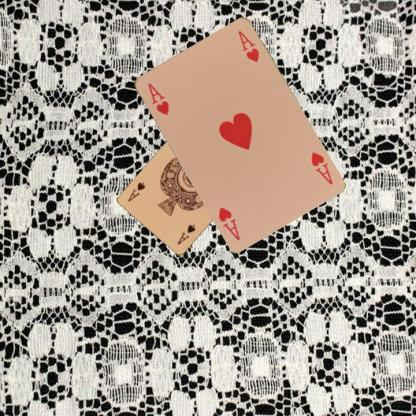Ah: (307, 149, 334, 186), (145, 80, 171, 116)
As: (174, 222, 197, 246)
